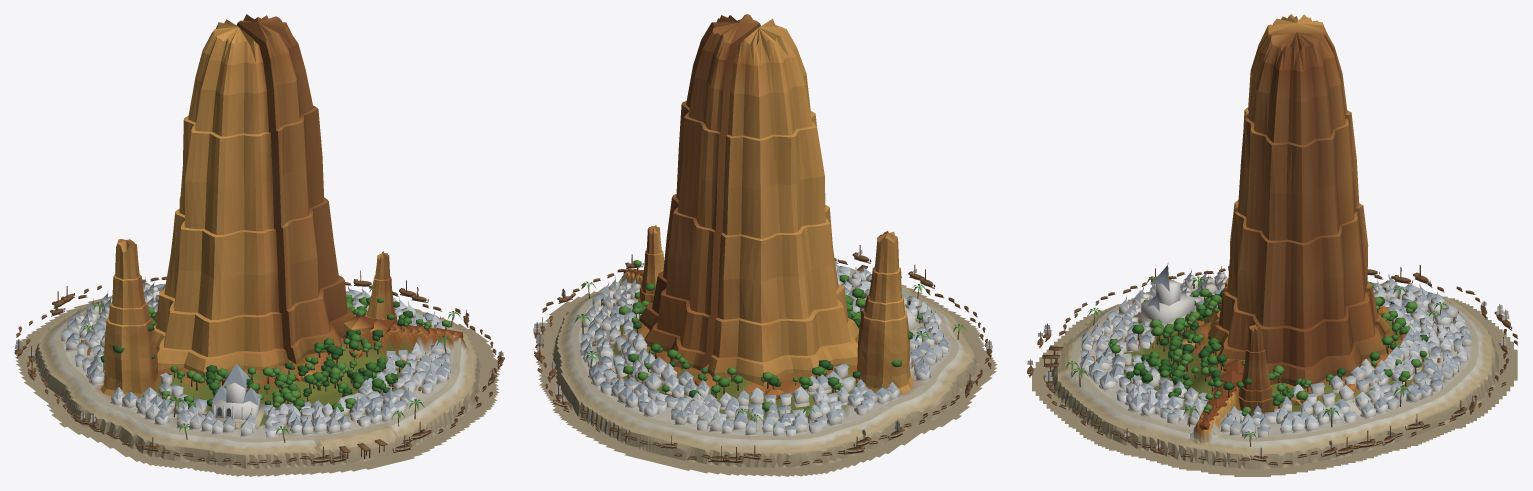
The picture shows the model from 3 angles, left to right: view 1: azimuth 30°, elevation 25°; view 2: azimuth 150°, elevation 25°; view 3: azimuth 270°, elevation 25°; orthographic projection.
Visible parts, largest first — view 1: BASE, VILLE_2, VILLE_3, VILLE_4; view 2: BASE, VILLE_2, VILLE_3; view 3: BASE, VILLE_2, VILLE_3, VILLE_4.
Boxes of the visible parts, x1,y1,x2,y2 form: BASE: [14, 14, 504, 476]; VILLE_2: [14, 270, 441, 404]; VILLE_3: [95, 285, 422, 424]; VILLE_4: [210, 363, 264, 428]; BASE: [536, 14, 997, 476]; VILLE_2: [533, 303, 939, 465]; VILLE_3: [609, 274, 921, 422]; BASE: [1027, 14, 1517, 476]; VILLE_2: [1292, 265, 1517, 458]; VILLE_3: [1111, 281, 1440, 423]; VILLE_4: [1134, 262, 1196, 326].
Bounding box in the file's own units: 64 × 52 × 66.89.
